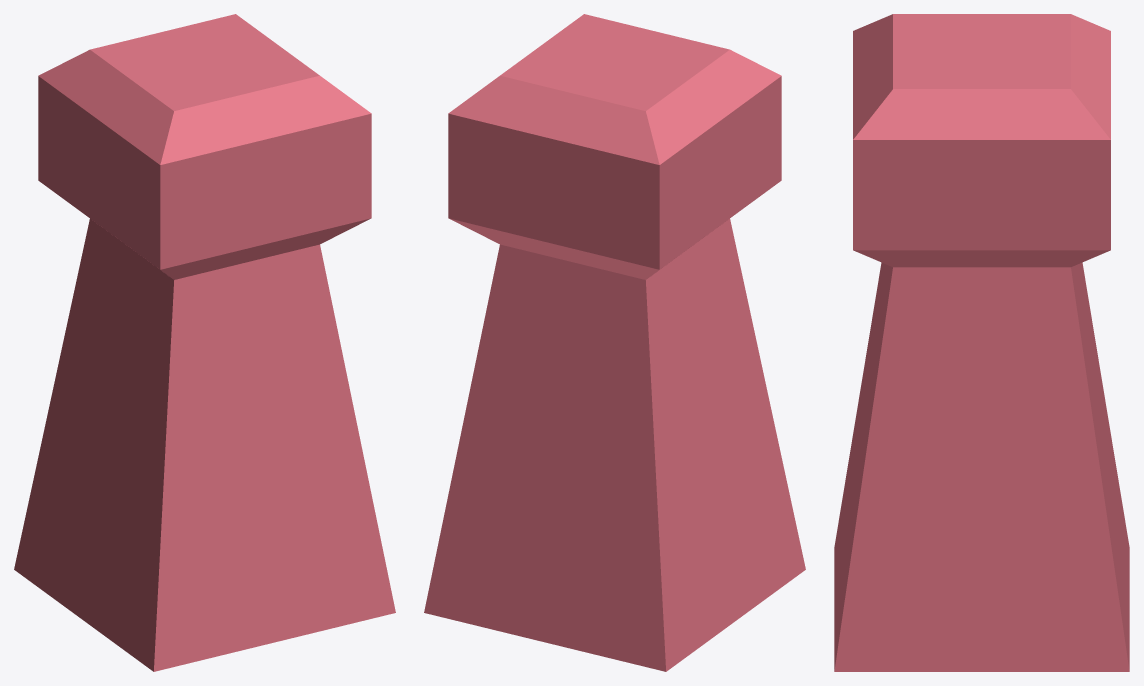
File: axolota.fbx
The picture shows the model from 3 angles, left to right: view 1: azimuth 30°, elevation 25°; view 2: azimuth 150°, elevation 25°; view 3: azimuth 270°, elevation 25°; orthographic projection. The views are drawn at different scales.
Visible parts, largest first — view 1: pCube1; view 2: pCube1; view 3: pCube1.
Part boxes in pixels (x1,y1,x2,y2): pCube1: (14,14,395,671); pCube1: (424,14,805,671); pCube1: (834,14,1129,671).
Bounding box in the file's own units: 8.13 × 16.95 × 8.13.
